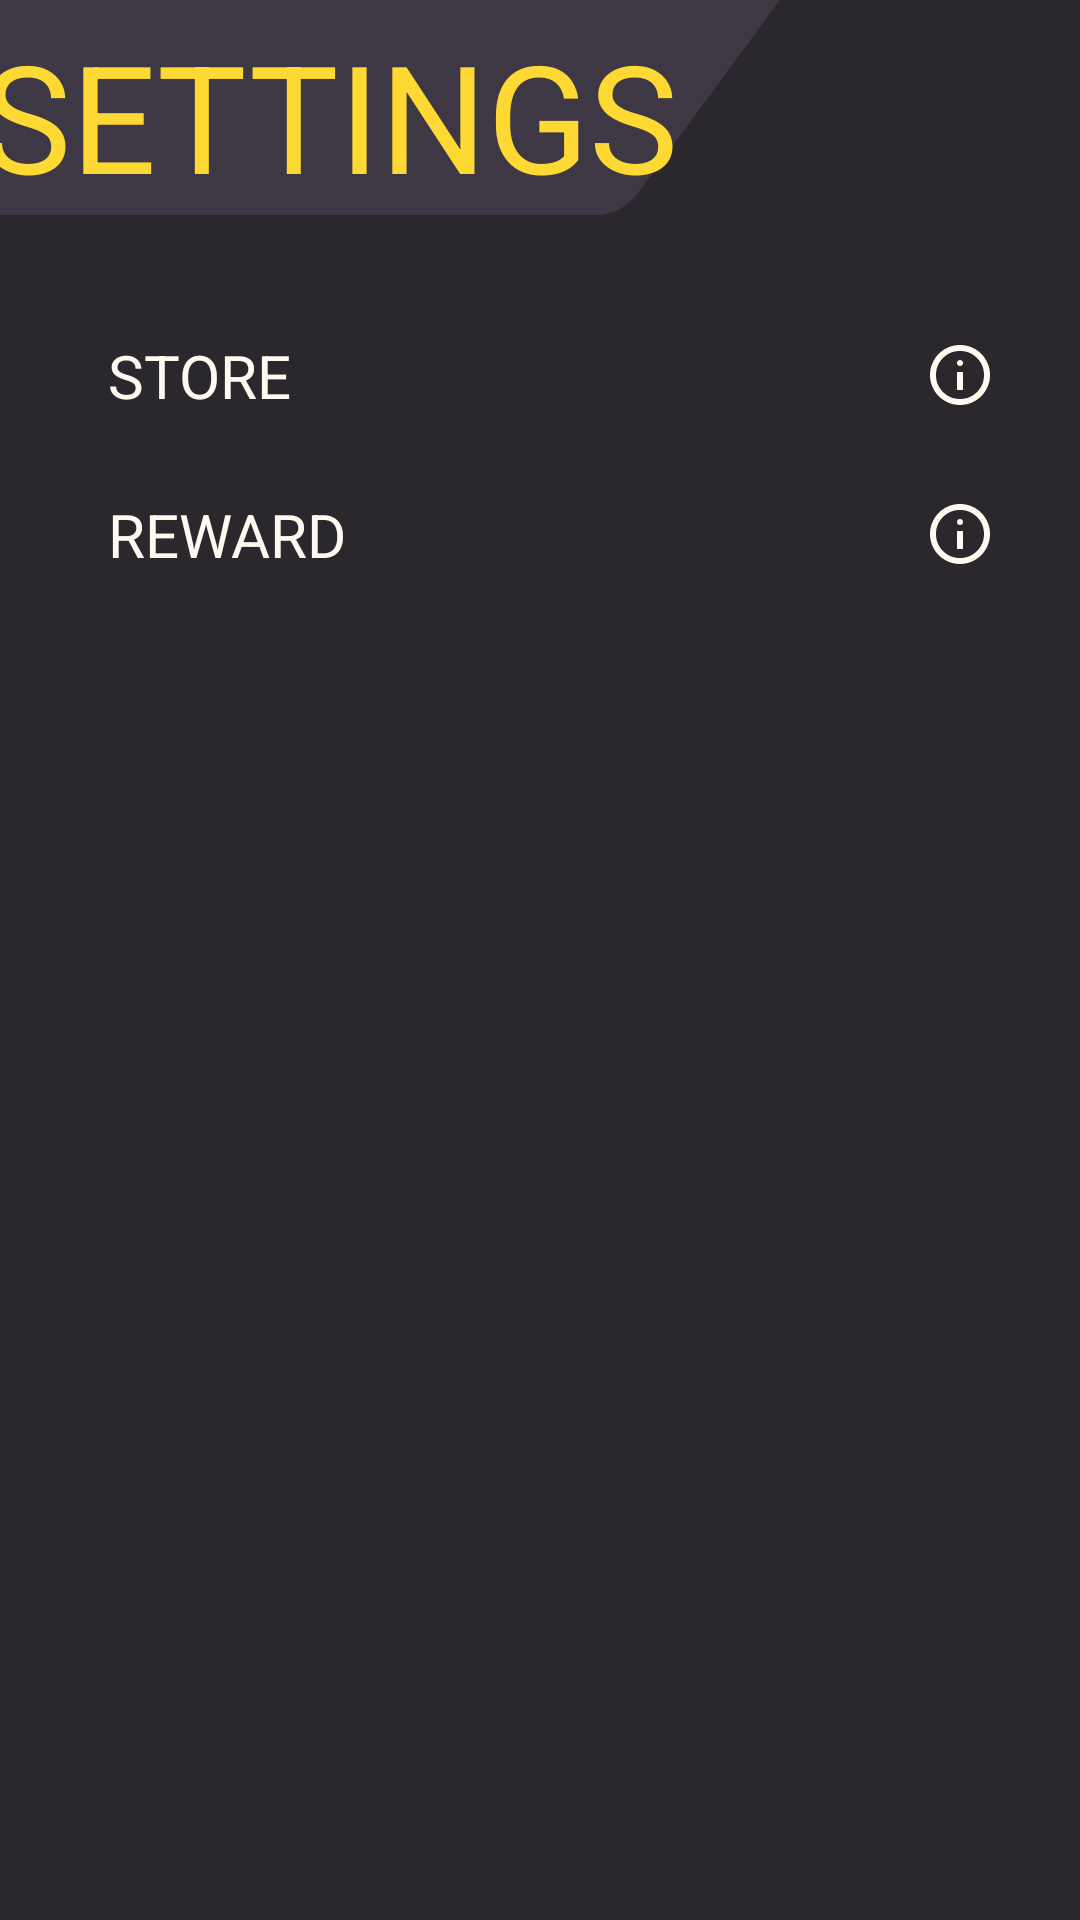

Icons on this 1080*1920 Android screen, each with its box as {"left": x1, "top": y1, "right": x2, "bottom": y2}:
info: {"left": 930, "top": 345, "right": 990, "bottom": 405}, {"left": 930, "top": 504, "right": 990, "bottom": 564}
